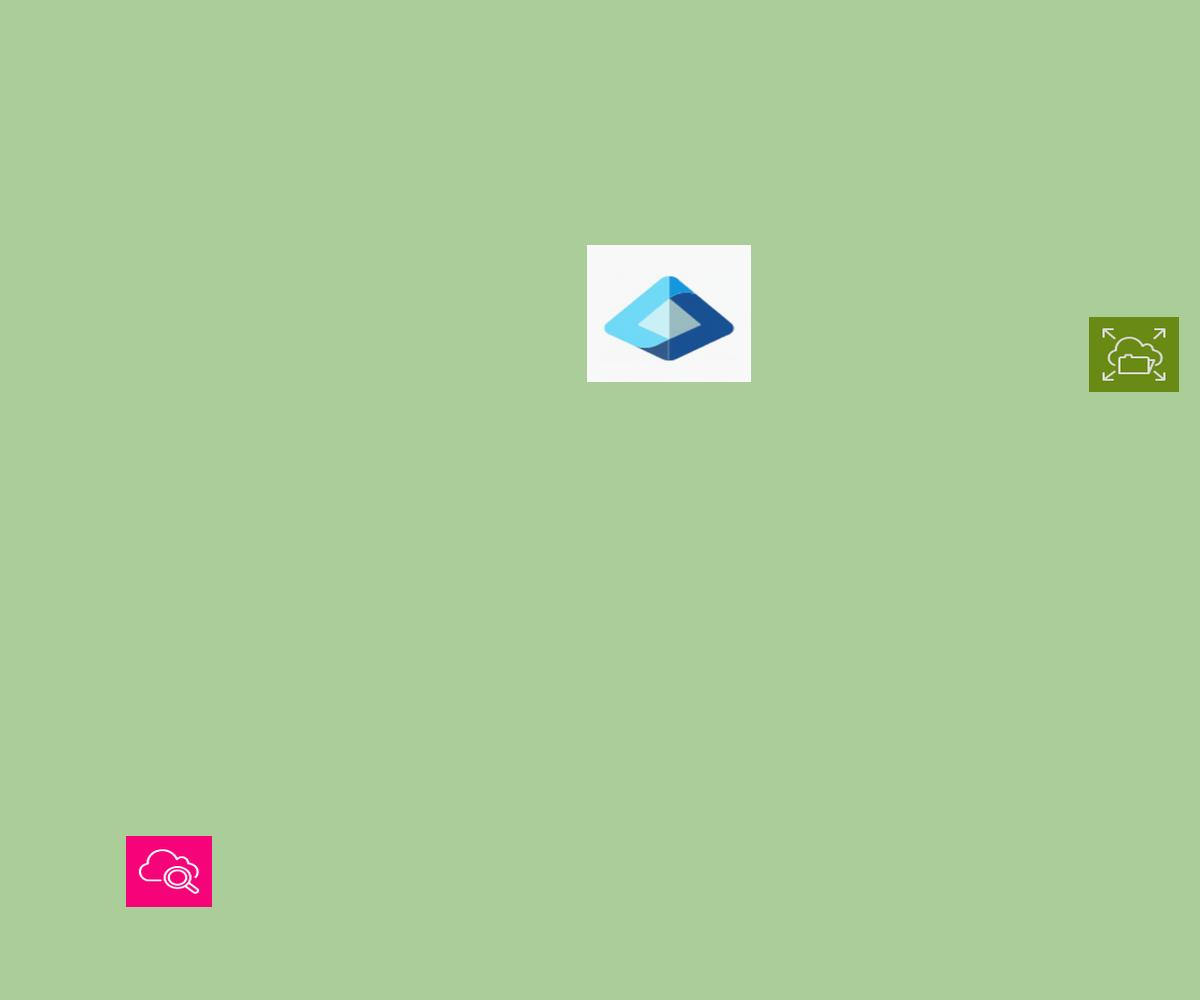AWS-CloudWatch: (126, 836, 212, 907)
AWS-EFS: (1089, 317, 1179, 392)
Azure_microsoft_entra: (587, 245, 751, 382)
